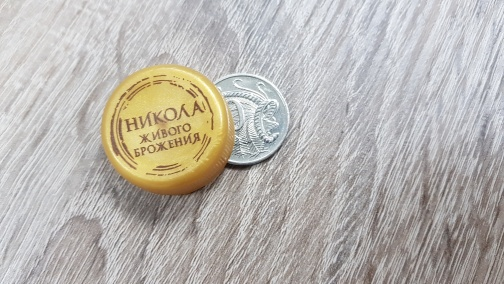coin: (210, 73, 292, 168)
